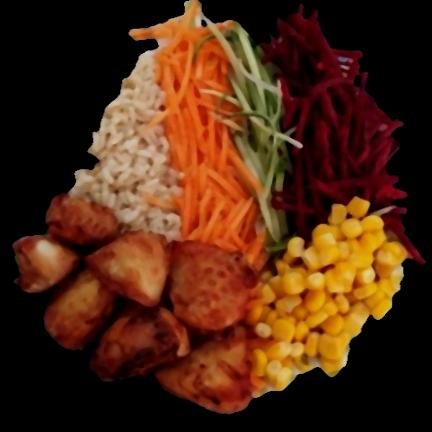beet: (262, 6, 407, 239)
carrot: (156, 3, 263, 264)
chicken: (14, 193, 257, 413)
corn: (247, 199, 408, 392)
green_vegetables: (204, 16, 302, 245)
rice: (70, 51, 182, 239)
